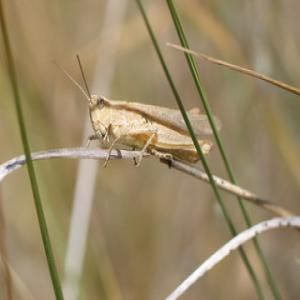locust: (61, 57, 220, 195)
